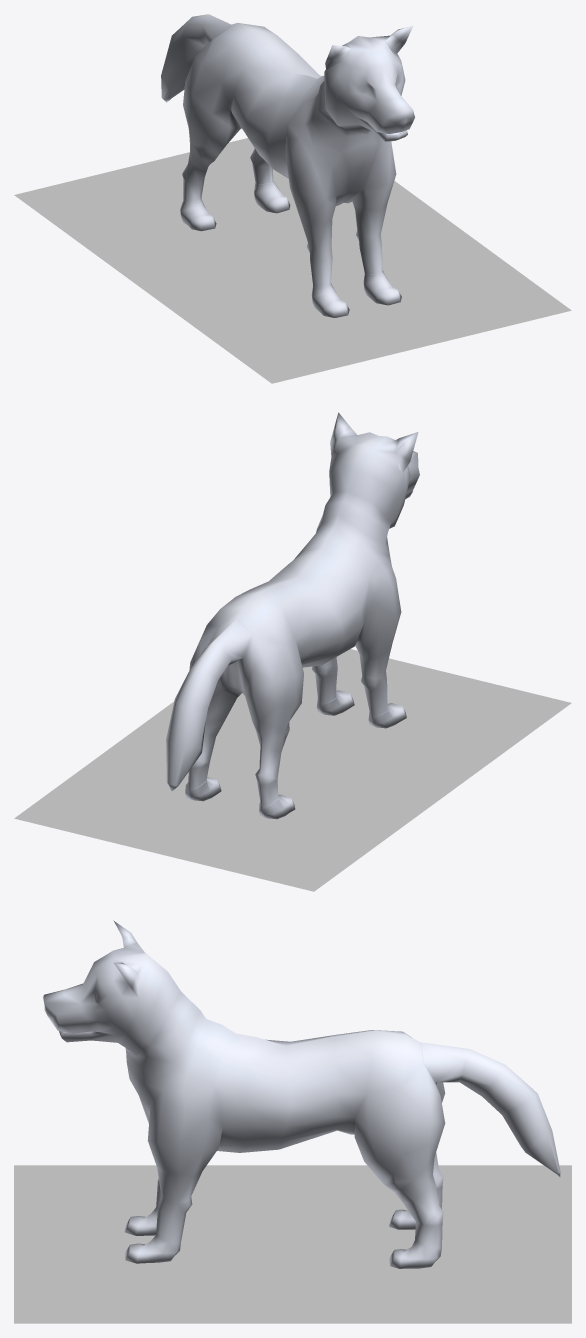
File: Dog.fbx
3 views of the same model, one above another, from view 1: azimuth 30°, elevation 25°; view 2: azimuth 150°, elevation 25°; view 3: azimuth 270°, elevation 25° (orthographic). The views are drawn at different scales.
Parts seen in each view (by area): view 1: Mesh_Dog_shadow, Mesh_Dog; view 2: Mesh_Dog_shadow, Mesh_Dog; view 3: Mesh_Dog_shadow, Mesh_Dog.
Part boxes in pixels (x1,y1,x2,y2): Mesh_Dog_shadow: [14, 138, 571, 383]; Mesh_Dog: [161, 14, 414, 317]; Mesh_Dog_shadow: [14, 649, 571, 891]; Mesh_Dog: [166, 412, 419, 819]; Mesh_Dog_shadow: [14, 1165, 571, 1323]; Mesh_Dog: [43, 920, 560, 1268].
Size of the model in its own units: 0.8734 by 0.7752 by 1.3.
